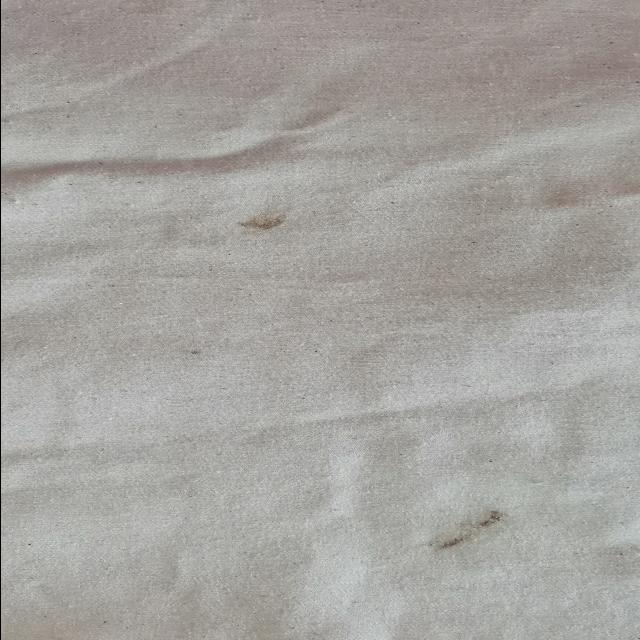taaaches: (409, 502, 521, 556), (213, 194, 305, 248)
